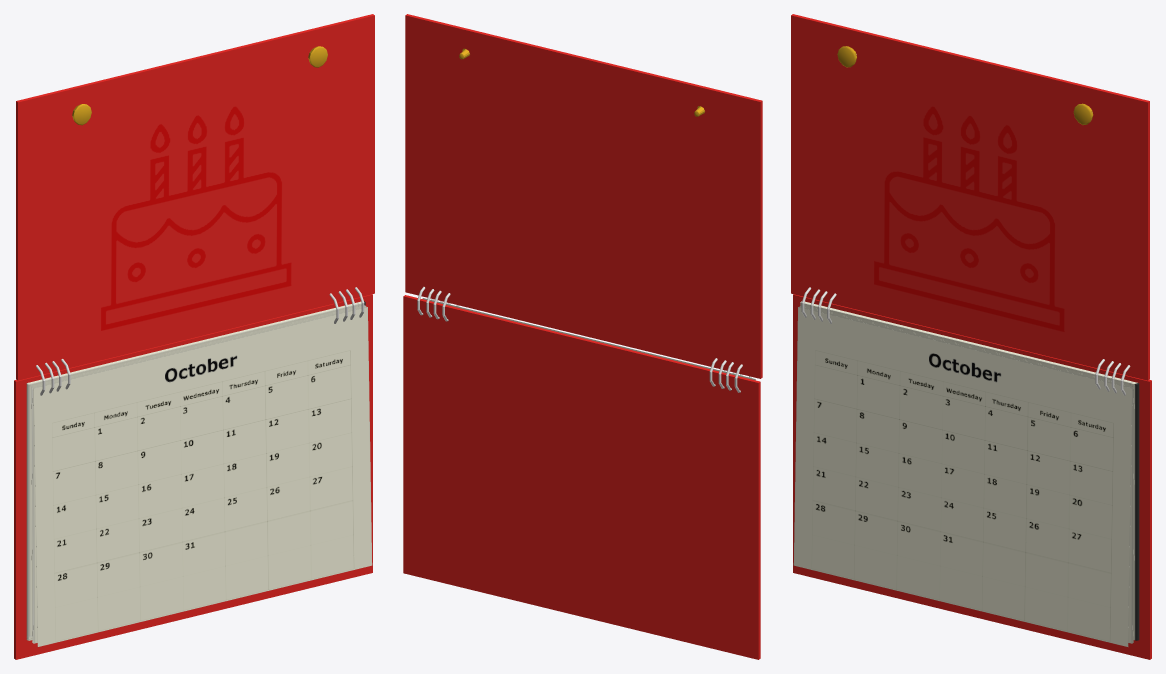
File: calendar.fbx
The picture shows the model from 3 angles, left to right: view 1: azimuth 30°, elevation 25°; view 2: azimuth 150°, elevation 25°; view 3: azimuth 330°, elevation 25°; orthographic projection.
Visible parts, largest first — view 1: calendar; view 2: calendar; view 3: calendar.
Part boxes in pixels (bbox=[...]): calendar: bbox=[14, 14, 374, 659]; calendar: bbox=[403, 14, 762, 659]; calendar: bbox=[791, 14, 1151, 659].
Bounding box in the file's own units: 6.24 × 9.33 × 0.5076.
3 materials, 3 textured.
